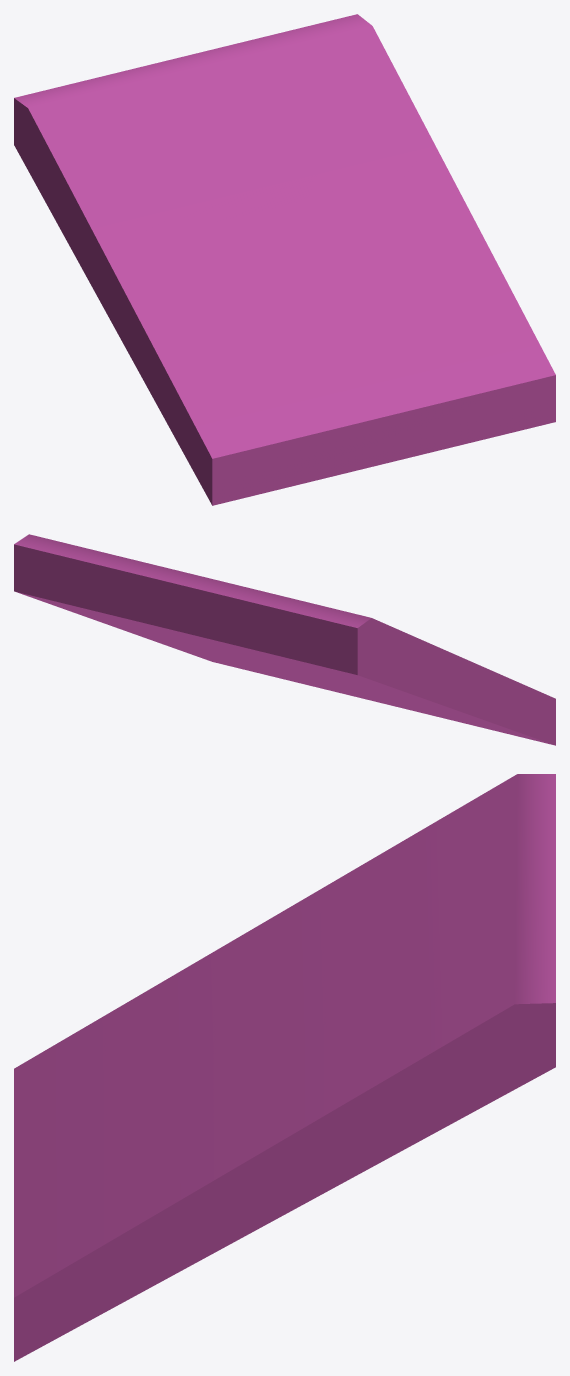
File: SM_Bld_Base_Stairs_01_Collision.gltf
3 renders of one model, top to bottom at view 1: azimuth 30°, elevation 25°; view 2: azimuth 150°, elevation 25°; view 3: azimuth 270°, elevation 25°, orthographic. The views are drawn at different scales.
Visible parts, largest first — view 1: SM_Bld_Base_Stairs_01_Collision; view 2: SM_Bld_Base_Stairs_01_Collision; view 3: SM_Bld_Base_Stairs_01_Collision.
Boxes of the visible parts, x1,y1,x2,y2 form: SM_Bld_Base_Stairs_01_Collision: (14,14,555,505); SM_Bld_Base_Stairs_01_Collision: (14,534,555,745); SM_Bld_Base_Stairs_01_Collision: (14,774,555,1361).
Size of the model in its own units: 2.5 by 1.83 by 2.5.
